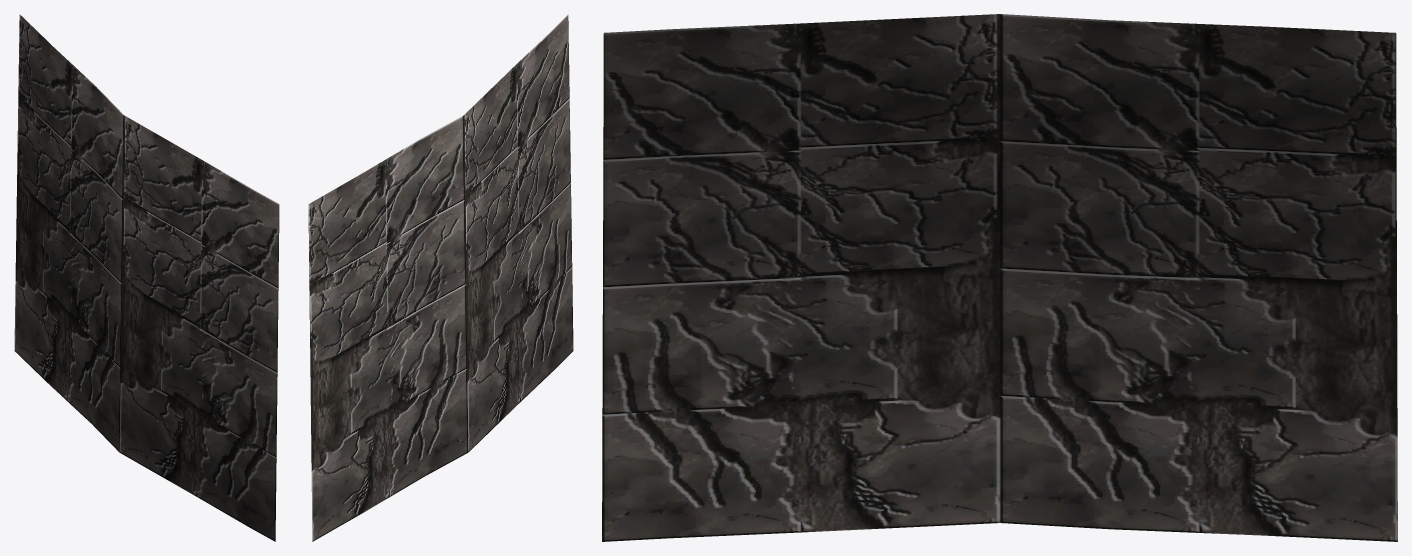
Rendered from CH09_SMAUG_PLAYSURFACE_LAIR125.fbx.
3 renders of one model, left to right at view 1: azimuth 30°, elevation 25°; view 2: azimuth 150°, elevation 25°; view 3: azimuth 270°, elevation 25°, orthographic. The views are drawn at different scales.
Visible parts, largest first — view 1: CH09_SMAUG_PLAYSURFACE_LAIR125; view 2: CH09_SMAUG_PLAYSURFACE_LAIR125; view 3: CH09_SMAUG_PLAYSURFACE_LAIR125.
Boxes of the visible parts, x1,y1,x2,y2 form: CH09_SMAUG_PLAYSURFACE_LAIR125: [14, 14, 279, 541]; CH09_SMAUG_PLAYSURFACE_LAIR125: [308, 14, 573, 541]; CH09_SMAUG_PLAYSURFACE_LAIR125: [602, 14, 1397, 541].
Size of the model in its own units: 10453 by 111989 by 157636.
Materials: 1 (1 with a texture image).
